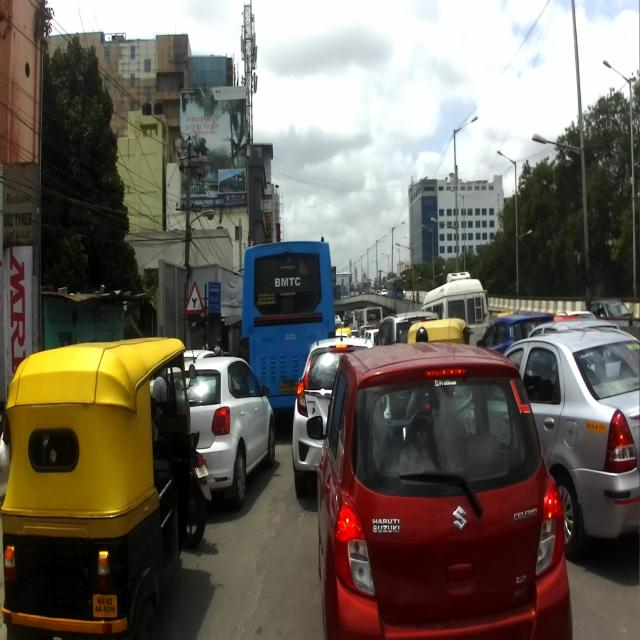autorickshaw: (2, 336, 196, 636)
bus: (240, 236, 337, 408)
car: (304, 340, 572, 637), (501, 327, 638, 557), (181, 344, 276, 511)
